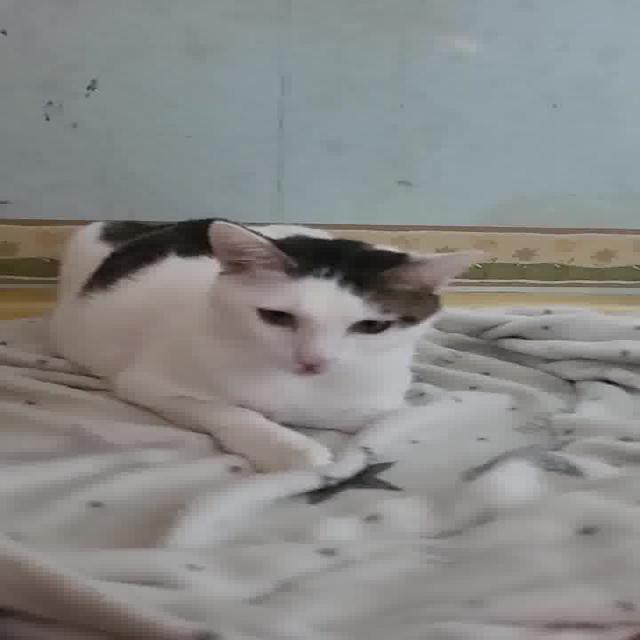cat: (51, 203, 500, 486)
